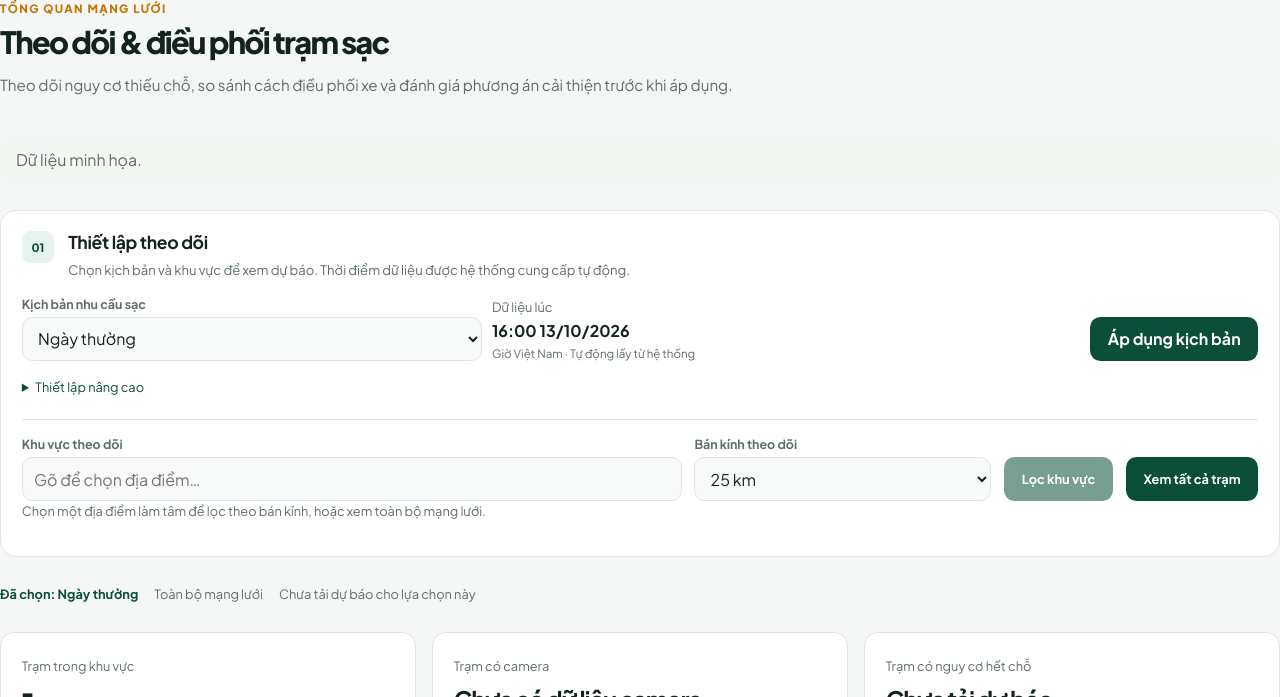
OperatorPage › compare leaders follow runner rates without a fixed winner
Click the button "Áp dụng kịch bản" at [1174, 339], box [1090, 317, 1258, 361]
(page scrolled)
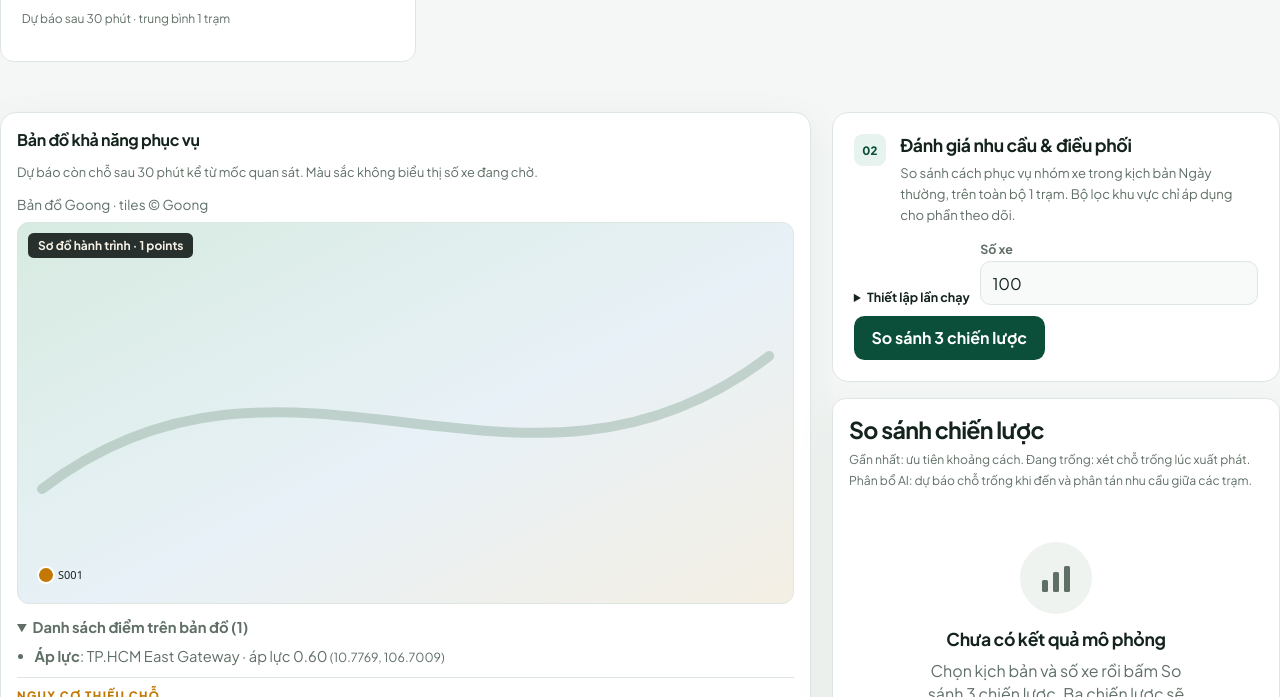
Click the button "So sánh 3 chiến lược" at [949, 338], box [854, 316, 1045, 360]
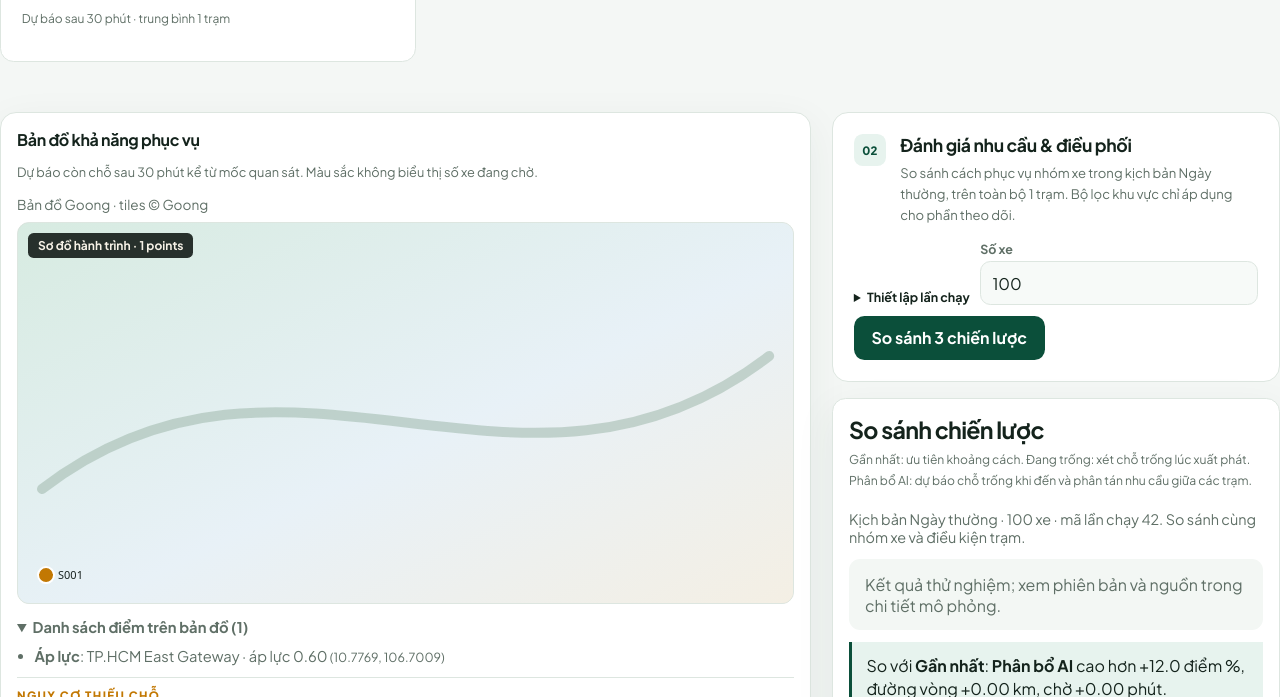
Result: the element with test id "strategy-delta" shows "Phân bổ AI" at [992, 655, 1073, 676]
Result: the element with test id "strategy-delta" shows "12.0 điểm %" at [1139, 655, 1241, 676]
Result: the text "So sánh cùng nhóm xe" is shown at [849, 510, 1256, 546]
